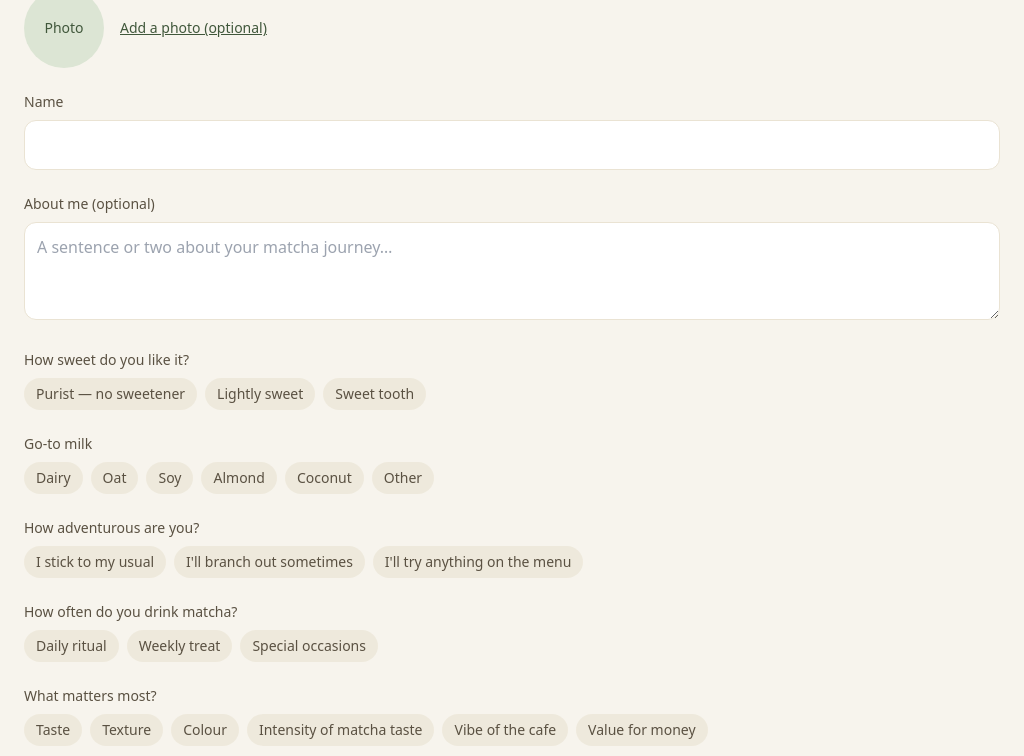
Test case: ProfileForm › disables save until name and all five taste answers are given
Type "Justina Gardiner" into the field labelled "Name" at (512, 145), box [24,120,1000,170]
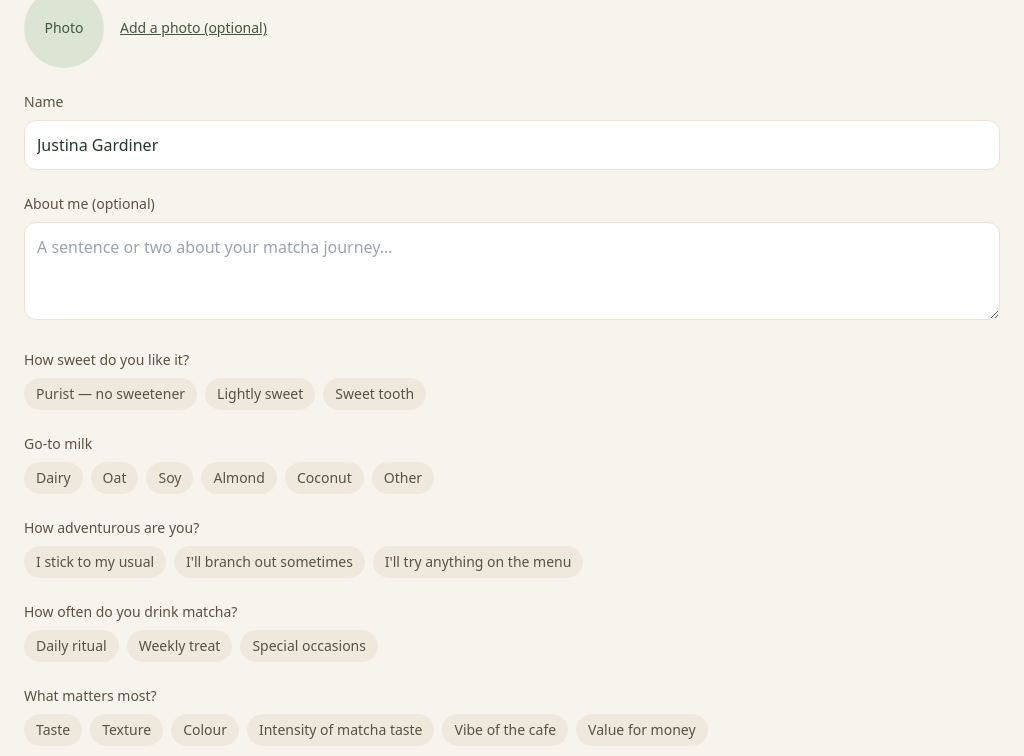
Click the button "Lightly sweet" at (260, 394), box [205,378,315,410]
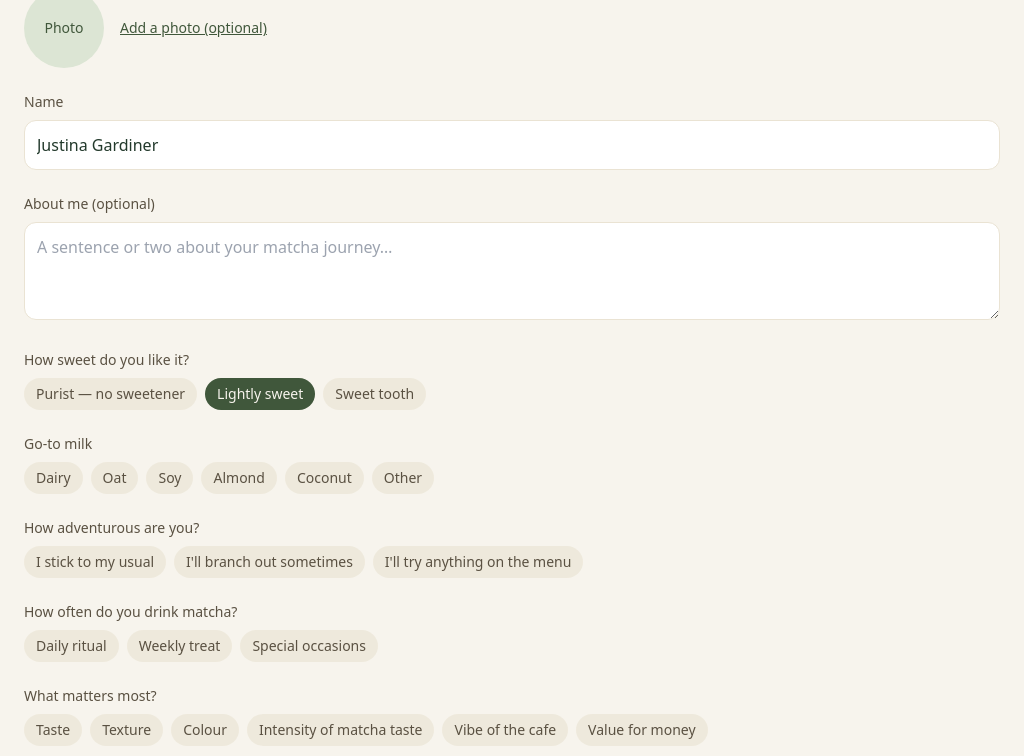
Click the button "Oat" at (114, 478), box [91,462,138,494]
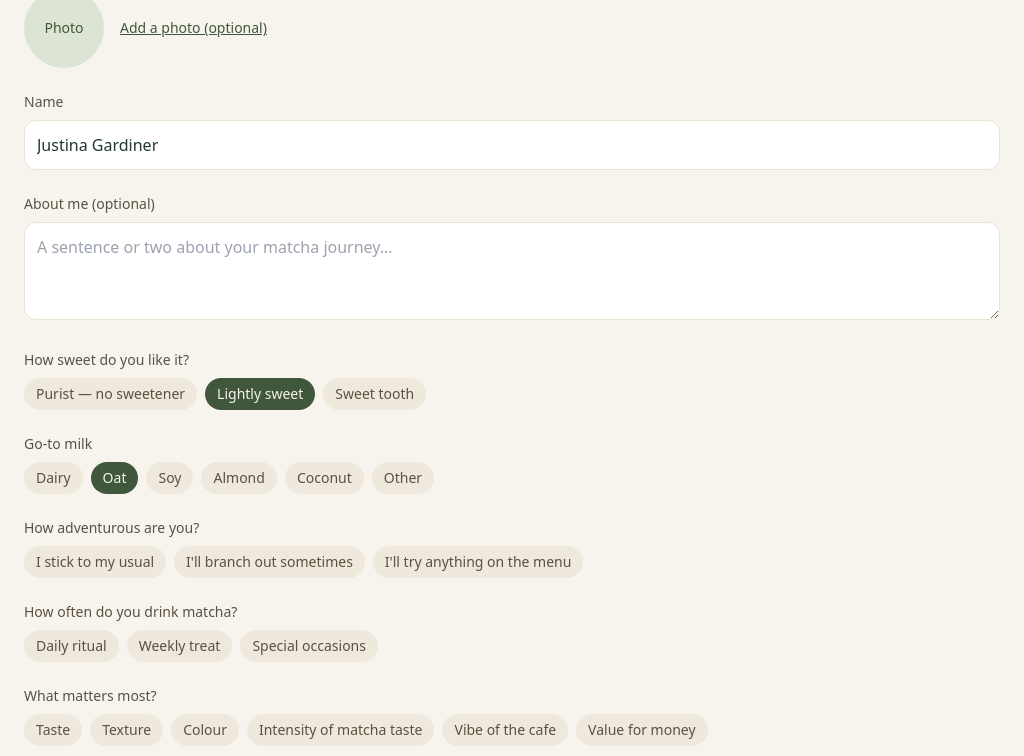
Click the button "I'll branch out sometimes" at (269, 562), box [174,546,365,578]
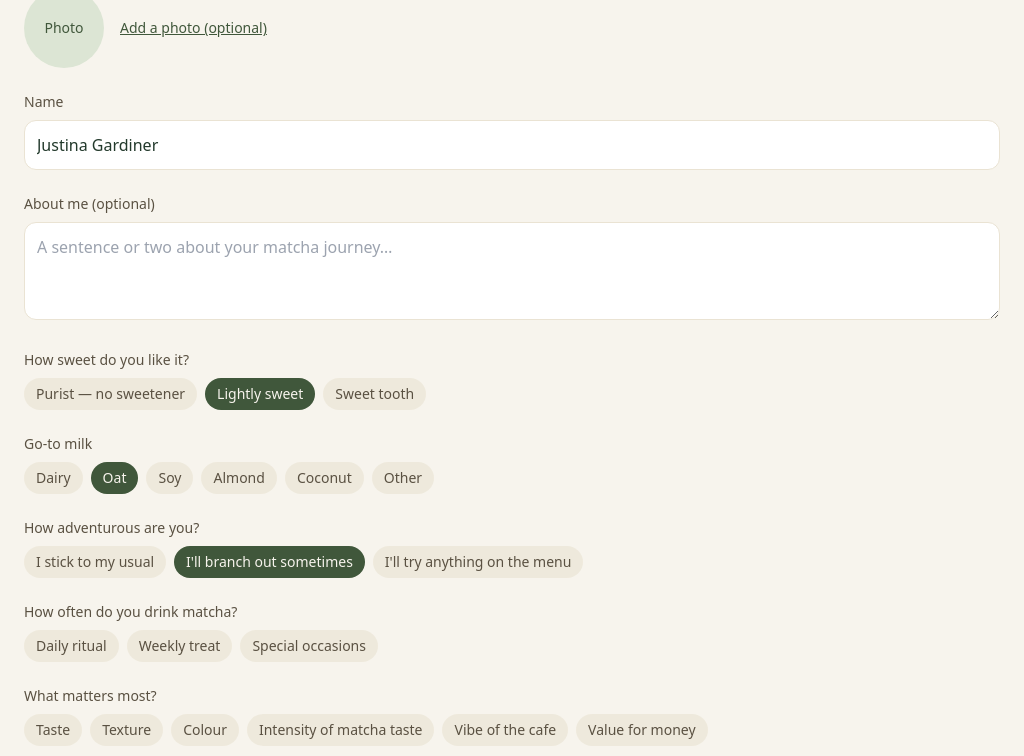
Click the button "Weekly treat" at (180, 646), box [127,630,232,662]
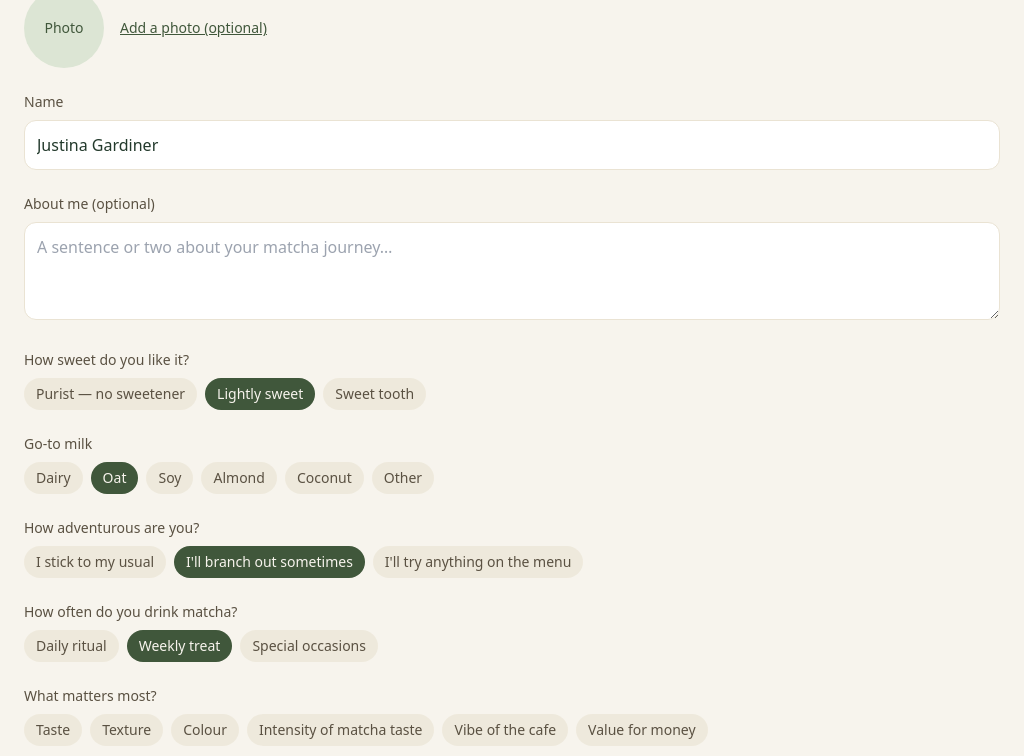
Click the button "Taste" at (53, 730), box [24,714,82,746]
(page scrolled)
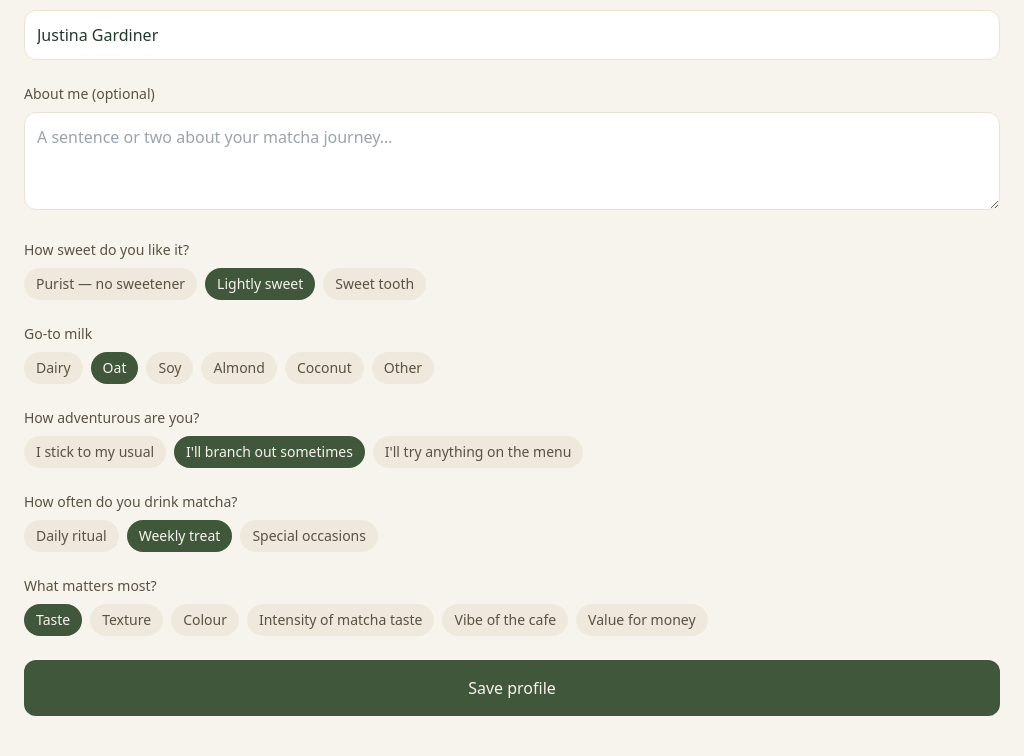
Check: the button "Save profile" is enabled, box [24,660,1000,716]
